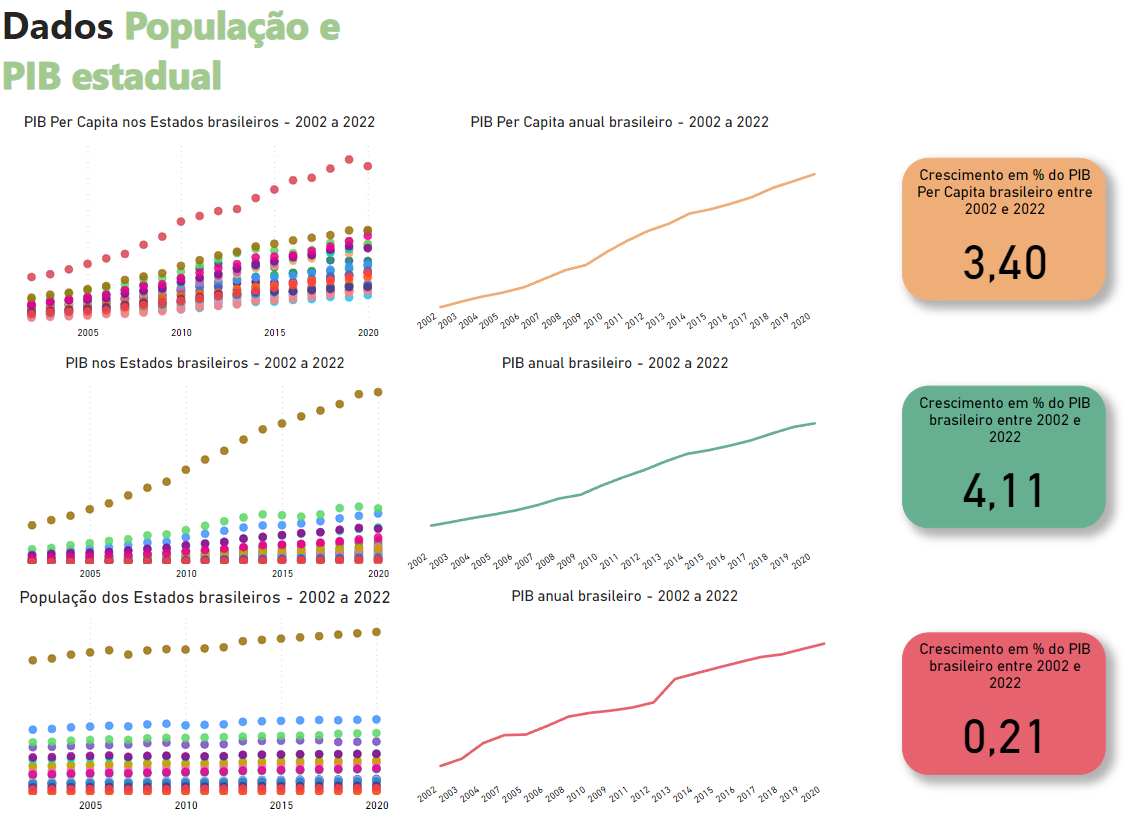

This screenshot's page, from the dashboard's own definition file:
{"tool":"powerbi","page":{"name":"Geral","canvas":[1280,950],"ordinal":0},"visuals":[{"type":"textbox","box":[0,0,466.4,163.8],"z":0},{"type":"scatterChart","title":"PIB Per Capita nos Estados brasileiros - 2002 a 2022","fields":{"Category":["summ_populacao.pib"],"X":["Min(summ_populacao.ano)"],"Y":["Sum(summ_populacao.pib_per_Capita)"],"Series":["summ_populacao.sigla_uf"]},"box":[0,134.4,454.4,261.1],"z":1000},{"type":"scatterChart","title":"PIB nos Estados brasileiros - 2002 a 2022","fields":{"Category":["summ_populacao.pib"],"X":["Min(summ_populacao.ano)"],"Series":["summ_populacao.sigla_uf"],"Y":["Sum(summ_populacao.pib)"]},"box":[0,404.4,466.7,261.1],"z":3000},{"type":"lineChart","title":"PIB anual brasileiro - 2002  a 2022","fields":{"Y":["Sum(PIB_mun_2002_2020.pib)"],"Category":["PIB_mun_2002_2020.ano"]},"box":[454.4,404.4,477.8,261.1],"z":3001},{"type":"card","title":"Crescimento em % do PIB brasileiro entre 2002 e 2022","fields":{"Values":["PIB_mun_2002_2020.pib % diferença de 2002"]},"box":[1015.6,440,228.9,160],"z":3003},{"type":"lineChart","title":"PIB Per Capita anual brasileiro - 2002  a 2022","fields":{"Y":["Sum(summ_populacao.pib_per_Capita)"],"Category":["summ_populacao.ano"]},"box":[465.6,134.4,466.7,261.1],"z":3004},{"type":"card","title":"Crescimento em % do PIB Per Capita brasileiro entre 2002 e 2022","fields":{"Values":["PIB_mun_2002_2020.pib per capita % diferença de 2002"]},"box":[1015.6,184.4,228.9,160],"z":3005},{"type":"scatterChart","title":"População dos Estados brasileiros - 2002 a 2022","fields":{"Category":["summ_populacao.Populacao"],"X":["summ_populacao.ano"],"Y":["Sum(summ_populacao.Populacao)"],"Series":["summ_populacao.sigla_uf"]},"box":[0,665.6,466.7,261.1],"z":3006},{"type":"lineChart","title":"PIB anual brasileiro - 2002  a 2022","fields":{"Y":["Sum(Pop_mun_2002_2020.populacao)"],"Category":["Pop_mun_2002_2020.ano"]},"box":[465.6,665.6,477.8,261.1],"z":3007},{"type":"card","title":"Crescimento em % do PIB brasileiro entre 2002 e 2022","fields":{"Values":["PIB_mun_2002_2020.crescimento populacional"]},"box":[1015.6,716.7,228.9,160],"z":3008}]}

Visuals, with their boxes in screenshot pixels (x1, y1, x2, y2), scaled from the page's 1280x950 canvas onto the 1130x831 screenshot:
textbox: Rect(0, 0, 412, 143)
"PIB Per Capita nos Estados brasileiros - 2002 a 2022" scatterChart: Rect(0, 118, 401, 346)
"PIB nos Estados brasileiros - 2002 a 2022" scatterChart: Rect(0, 354, 412, 582)
"PIB anual brasileiro - 2002  a 2022" lineChart: Rect(401, 354, 823, 582)
"Crescimento em % do PIB brasileiro entre 2002 e 2022" card: Rect(897, 385, 1099, 525)
"PIB Per Capita anual brasileiro - 2002  a 2022" lineChart: Rect(411, 118, 823, 346)
"Crescimento em % do PIB Per Capita brasileiro entre 2002 e 2022" card: Rect(897, 161, 1099, 301)
"População dos Estados brasileiros - 2002 a 2022" scatterChart: Rect(0, 582, 412, 811)
"PIB anual brasileiro - 2002  a 2022" lineChart: Rect(411, 582, 833, 811)
"Crescimento em % do PIB brasileiro entre 2002 e 2022" card: Rect(897, 627, 1099, 767)
